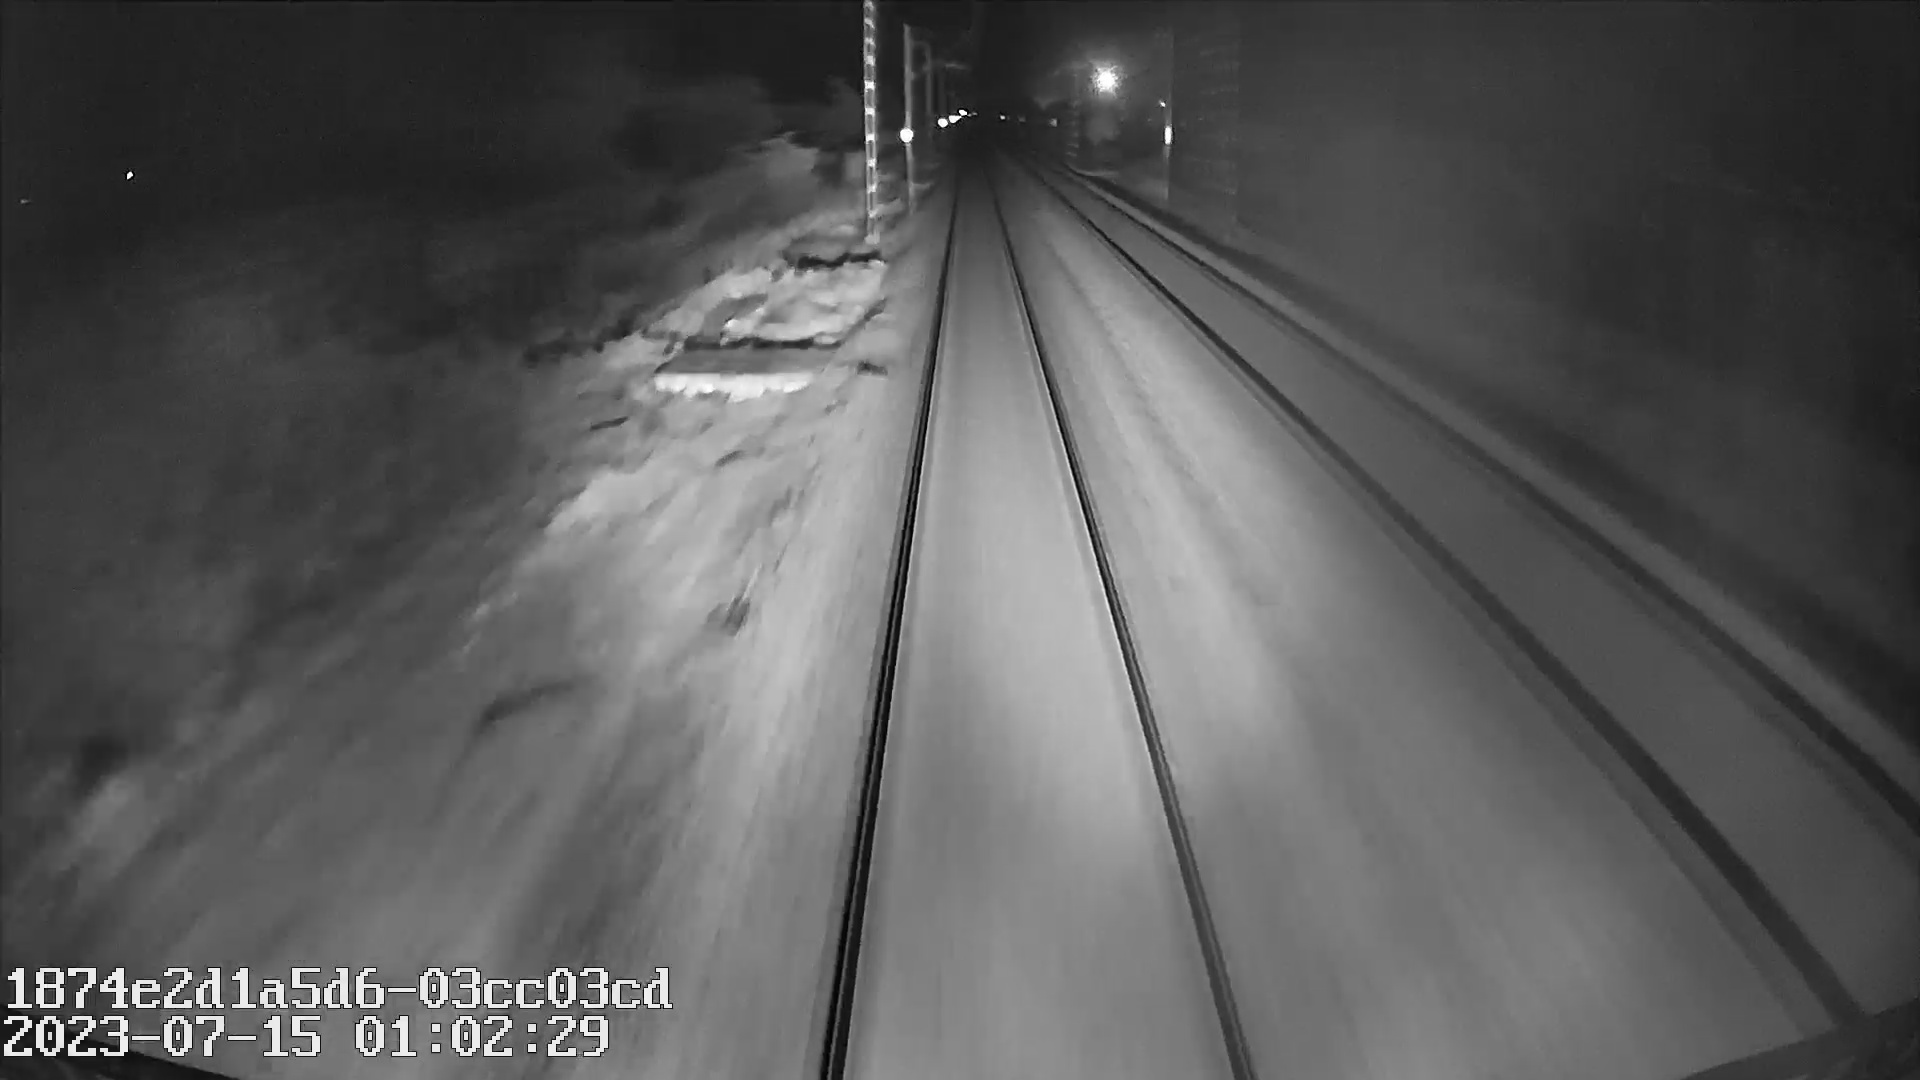track1: (837, 173, 1244, 1071)
track2: (1076, 211, 1900, 967)
